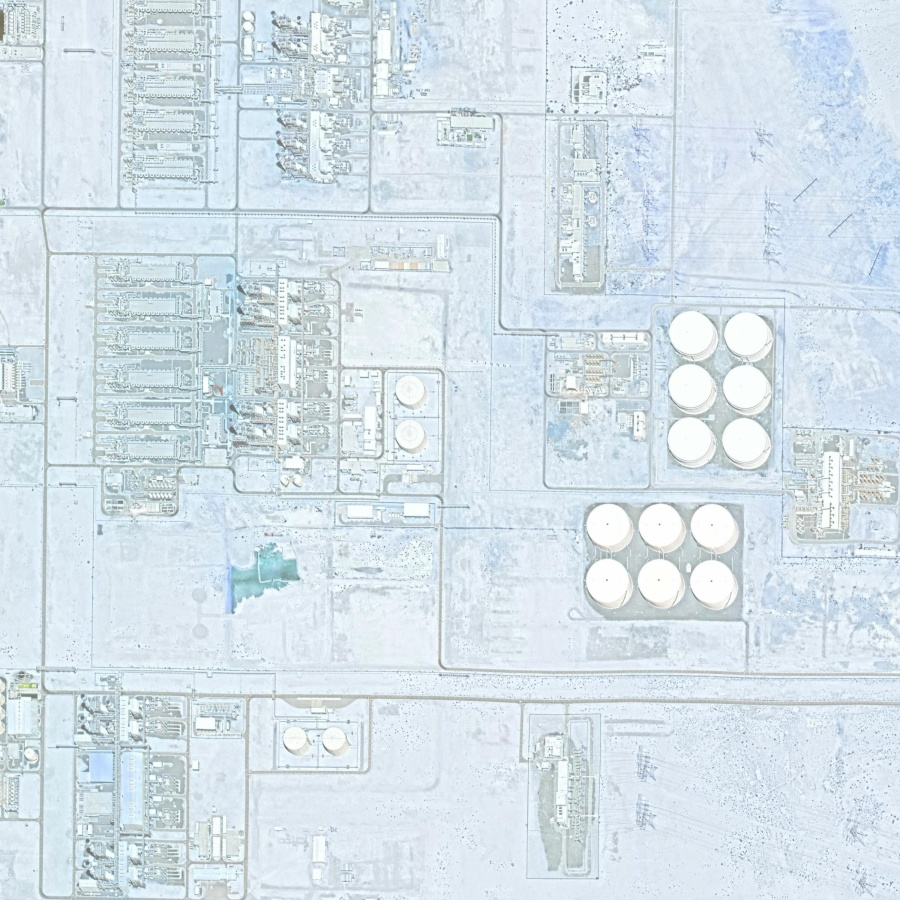PowerPlant: (79, 249, 441, 529)
